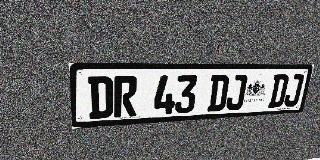3: (174, 75, 198, 114)
4: (153, 75, 177, 115)
D: (88, 76, 113, 119), (207, 75, 230, 112), (268, 74, 290, 108)
J: (225, 75, 248, 111), (283, 74, 305, 107)
R: (114, 76, 138, 118)
